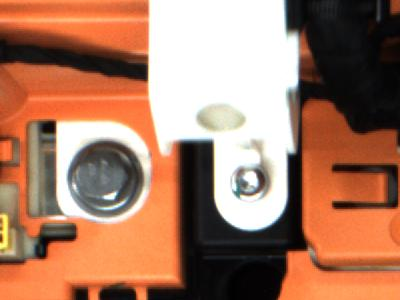nut_b: (62, 141, 144, 218)
screw_m: (226, 161, 272, 212)
